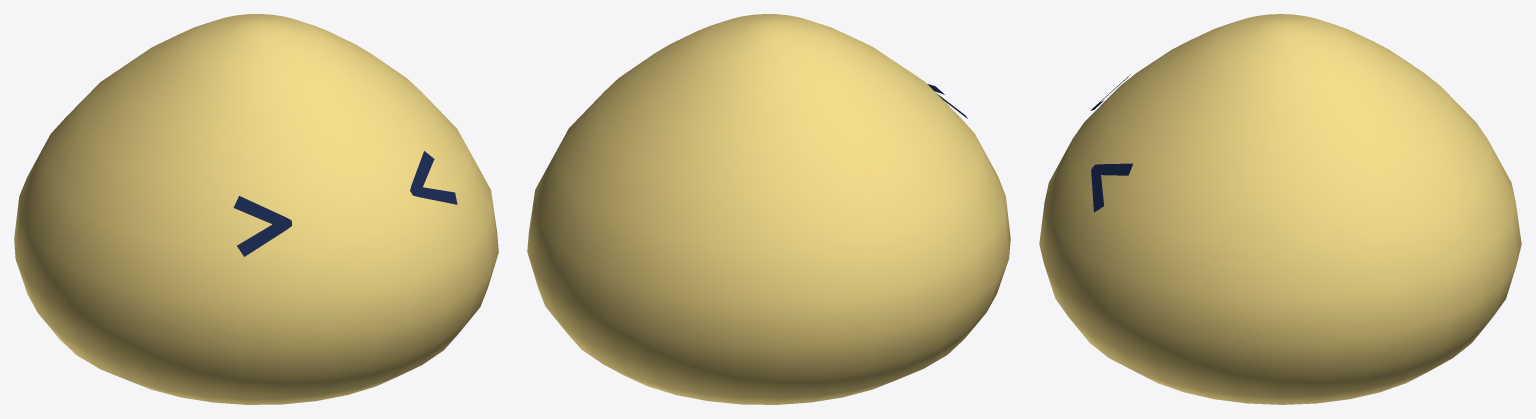
File: slime_crown_body_hurt.gltf
3 renders of one model, left to right at view 1: azimuth 30°, elevation 25°; view 2: azimuth 150°, elevation 25°; view 3: azimuth 270°, elevation 25°, orthographic.
Visible parts, largest first — view 1: Slime_Slime_0; view 2: Slime_Slime_0; view 3: Slime_Slime_0.
Boxes of the visible parts, x1,y1,x2,y2 form: Slime_Slime_0: [14, 14, 498, 404]; Slime_Slime_0: [527, 14, 1010, 404]; Slime_Slime_0: [1039, 14, 1521, 404].
Size of the model in its own units: 1.03 by 0.7421 by 1.03.
